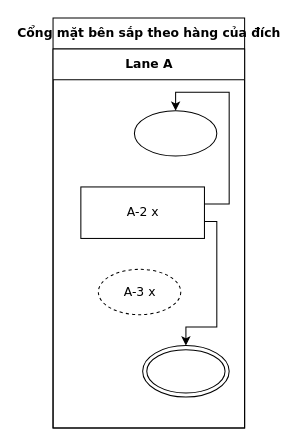
Image size: 298x446. Some labels were removed from this diagram. Each missing label, with the centre of its shape:
"A-1 x" belongs at (x=175, y=133).
"A-4 x" belongs at (x=185, y=371).
